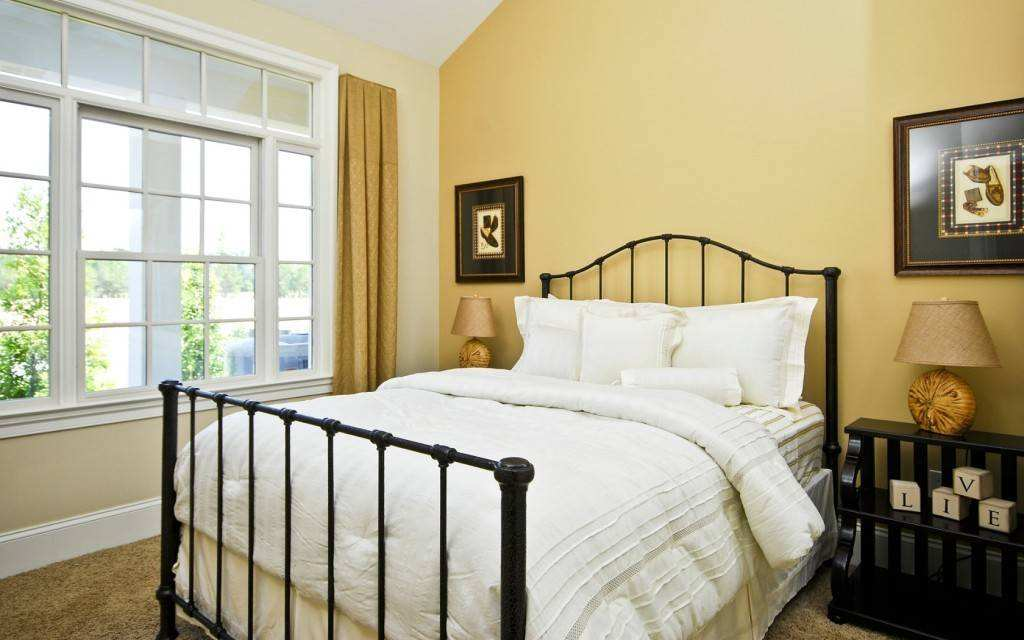床: (131, 368, 865, 635)
枕头: (514, 293, 823, 402)
灯: (899, 299, 997, 441), (449, 295, 505, 369)
